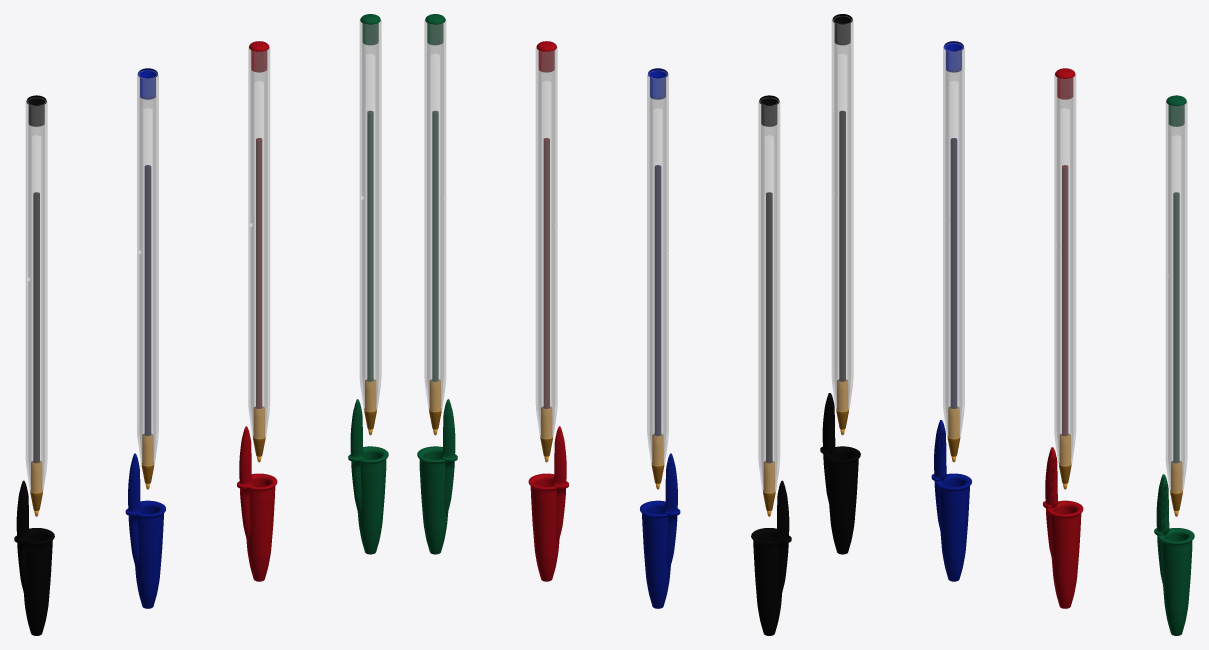
File: bic_cristal_ballpoint_pens.glb
3 renders of one model, left to right at view 1: azimuth 30°, elevation 25°; view 2: azimuth 150°, elevation 25°; view 3: azimuth 330°, elevation 25°, orthographic.
Visible parts, largest first — view 1: Material_008-material (×4), Material_012-material, Material_015-material, Material_001-material, Material_009-material, Material_006-material (×4), Material_005-material, Material_011-material, Material_017-material, Material_014-material, Material_010-material, Material_016-material (+1 smaller); view 2: Material_008-material (×4), Material_012-material, Material_015-material, Material_001-material, Material_009-material, Material_006-material (×4), Material_005-material, Material_011-material, Material_017-material, Material_014-material, Material_010-material, Material_016-material (+1 smaller); view 3: Material_008-material (×4), Material_009-material, Material_001-material, Material_015-material, Material_012-material, Material_006-material (×4), Material_005-material, Material_017-material, Material_011-material, Material_014-material, Material_013-material, Material_016-material (+1 smaller).
Part boxes in pixels (bbox=[...]): Material_008-material (×4): bbox=[26, 20, 381, 492]; Material_012-material: bbox=[237, 426, 277, 581]; Material_015-material: bbox=[348, 399, 388, 554]; Material_001-material: bbox=[125, 453, 165, 608]; Material_009-material: bbox=[14, 480, 54, 635]; Material_006-material (×4): bbox=[30, 379, 376, 510]; Material_005-material: bbox=[144, 165, 151, 435]; Material_011-material: bbox=[33, 192, 39, 463]; Material_017-material: bbox=[367, 110, 373, 381]; Material_014-material: bbox=[256, 138, 262, 408]; Material_010-material: bbox=[26, 95, 46, 126]; Material_016-material: bbox=[360, 14, 380, 45]; Material_008-material (×4): bbox=[424, 20, 779, 492]; Material_012-material: bbox=[528, 426, 568, 581]; Material_015-material: bbox=[417, 399, 457, 554]; Material_001-material: bbox=[640, 453, 680, 608]; Material_009-material: bbox=[751, 480, 791, 635]; Material_006-material (×4): bbox=[429, 379, 775, 510]; Material_005-material: bbox=[654, 165, 661, 435]; Material_011-material: bbox=[766, 192, 772, 463]; Material_017-material: bbox=[432, 110, 438, 381]; Material_014-material: bbox=[543, 138, 549, 408]; Material_010-material: bbox=[759, 95, 779, 126]; Material_016-material: bbox=[425, 14, 445, 45]; Material_008-material (×4): bbox=[832, 16, 1187, 492]; Material_009-material: bbox=[820, 393, 860, 554]; Material_001-material: bbox=[931, 420, 971, 581]; Material_015-material: bbox=[1154, 474, 1194, 635]; Material_012-material: bbox=[1043, 447, 1083, 608]; Material_006-material (×4): bbox=[836, 379, 1182, 510]; Material_005-material: bbox=[950, 138, 957, 408]; Material_017-material: bbox=[1173, 192, 1179, 463]; Material_011-material: bbox=[839, 110, 845, 381]; Material_014-material: bbox=[1062, 165, 1068, 436]; Material_013-material: bbox=[1055, 68, 1075, 99]; Material_016-material: bbox=[1166, 95, 1186, 126].
Bounding box in the file's own units: 167 × 230 × 14.2.
